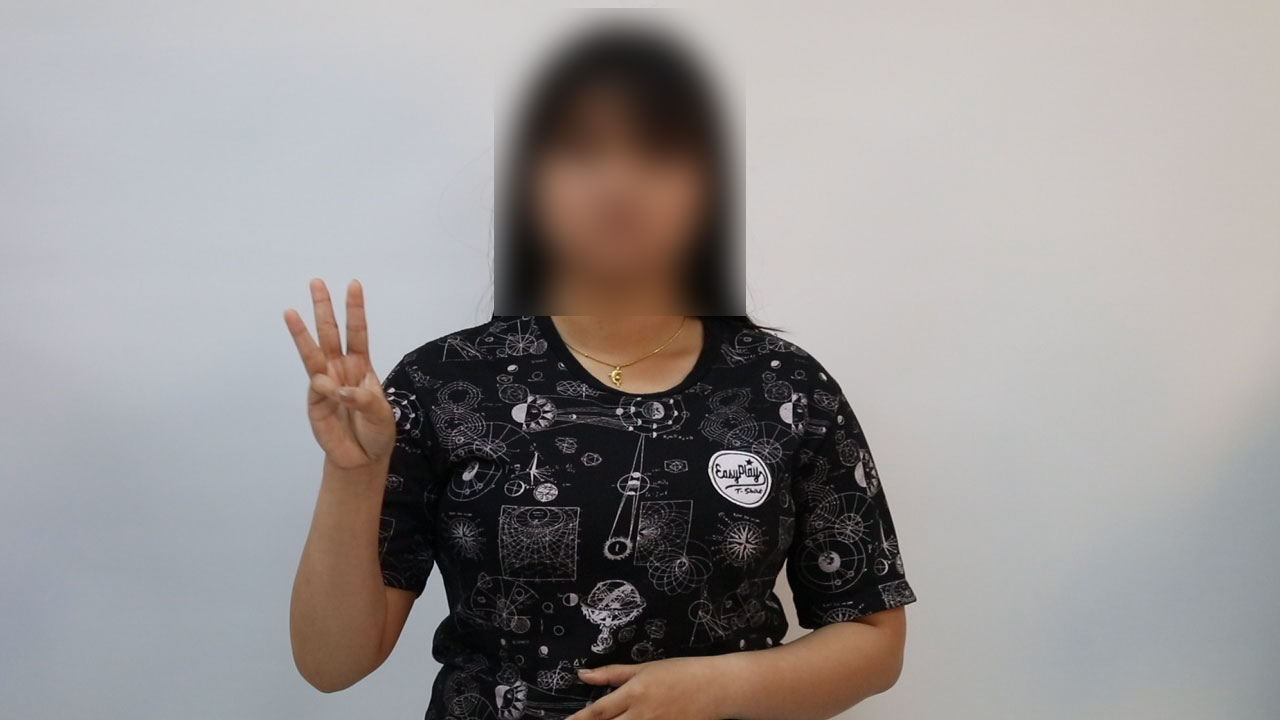wor: (275, 270, 402, 483)
